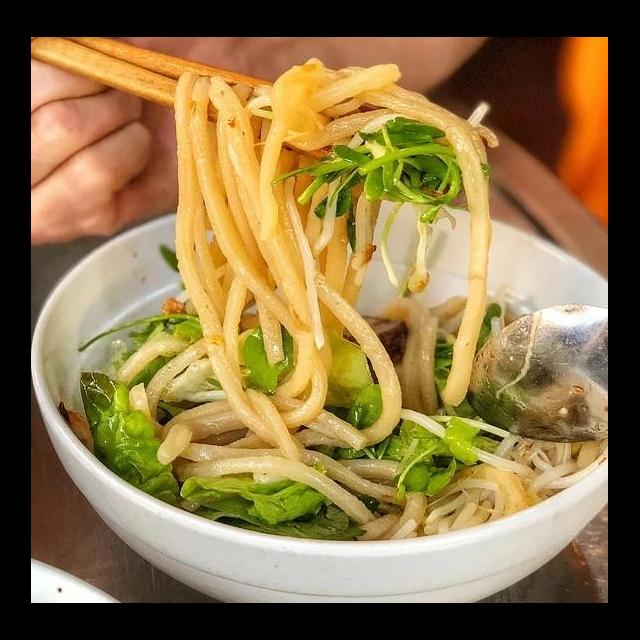mi: (104, 53, 502, 485), (320, 448, 548, 548)
thit heo: (330, 305, 412, 371)
